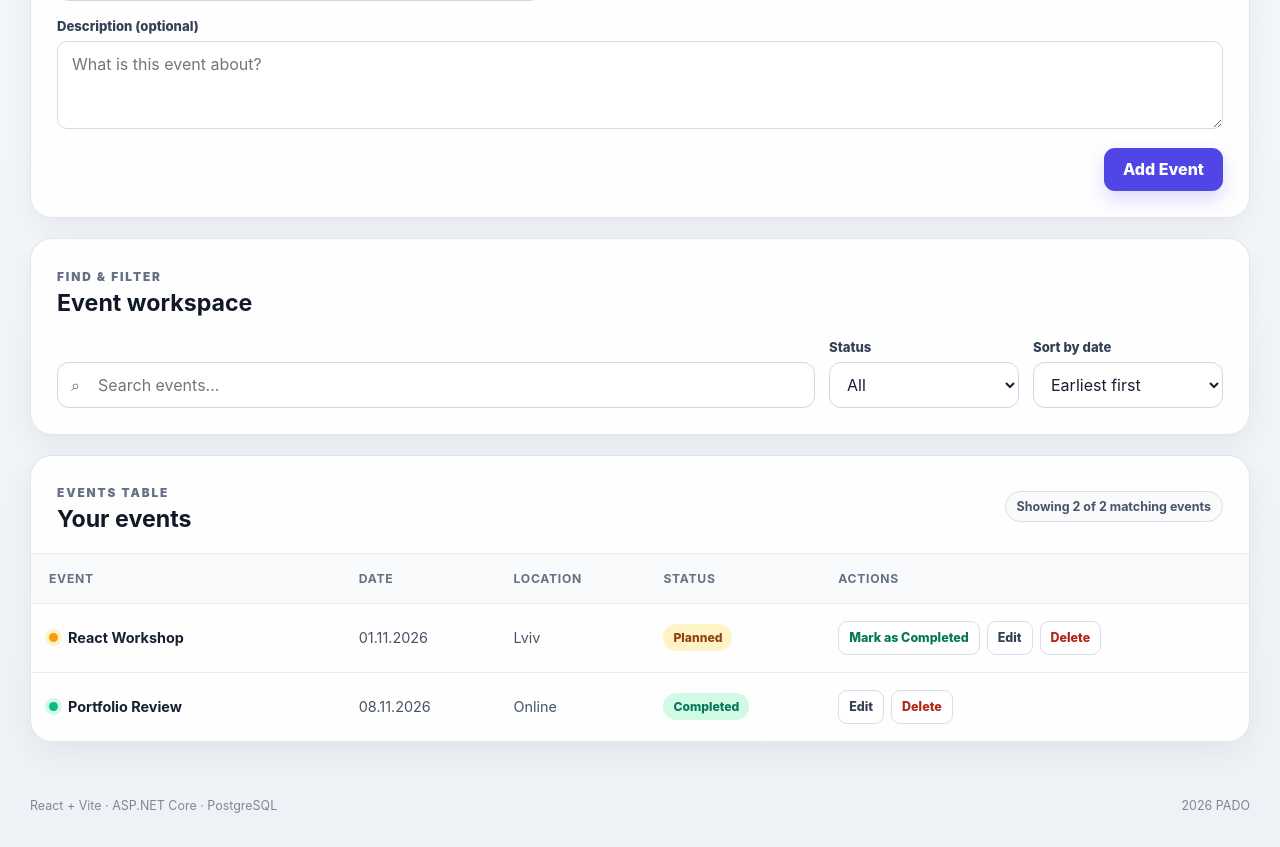
it: deletes event after confirmation and refreshes stats
(page scrolled)
Check: the text "React Workshop" is shown, box [68, 629, 184, 646]
Click the button "Delete" in the row of "React Workshop" at (1070, 638), box [1040, 621, 1101, 655]
(page scrolled)
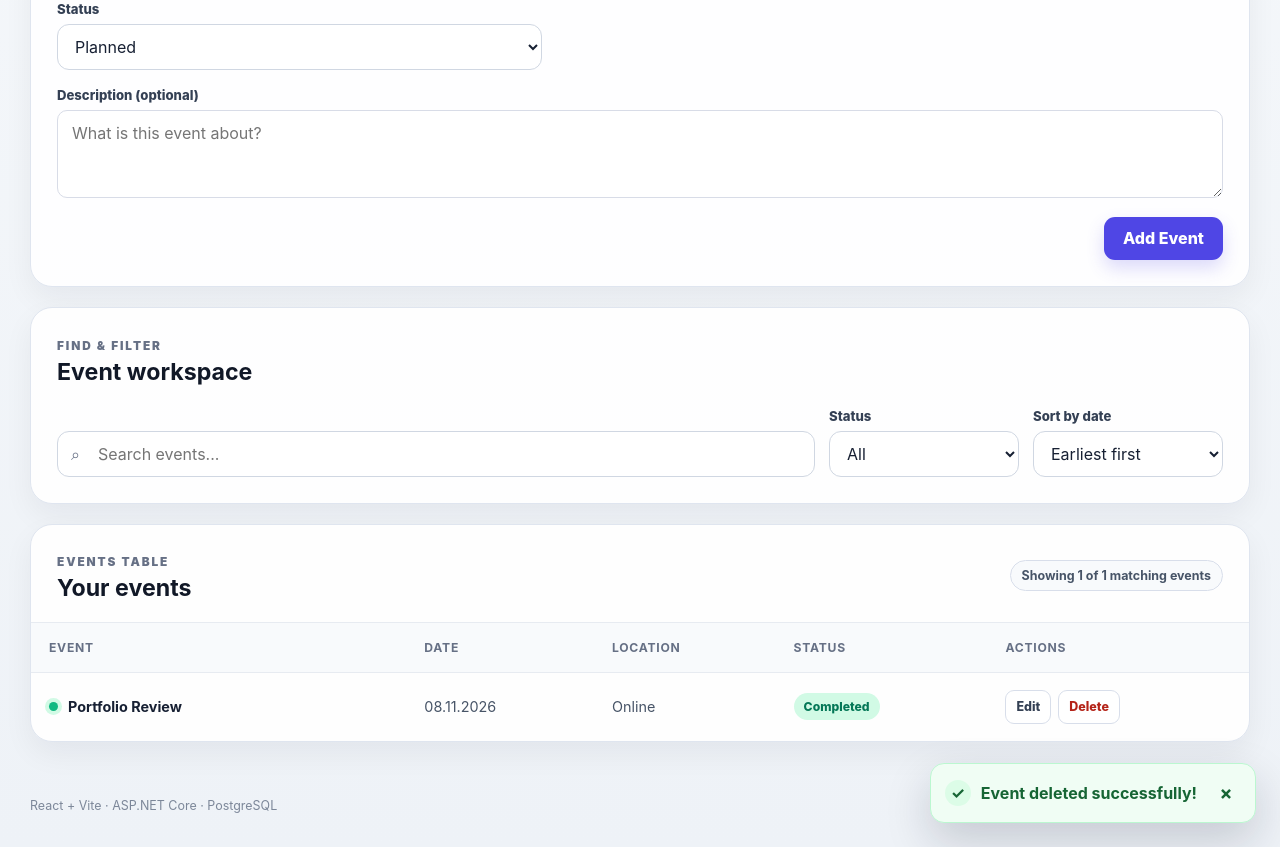
Check: the text "React Workshop" is gone
